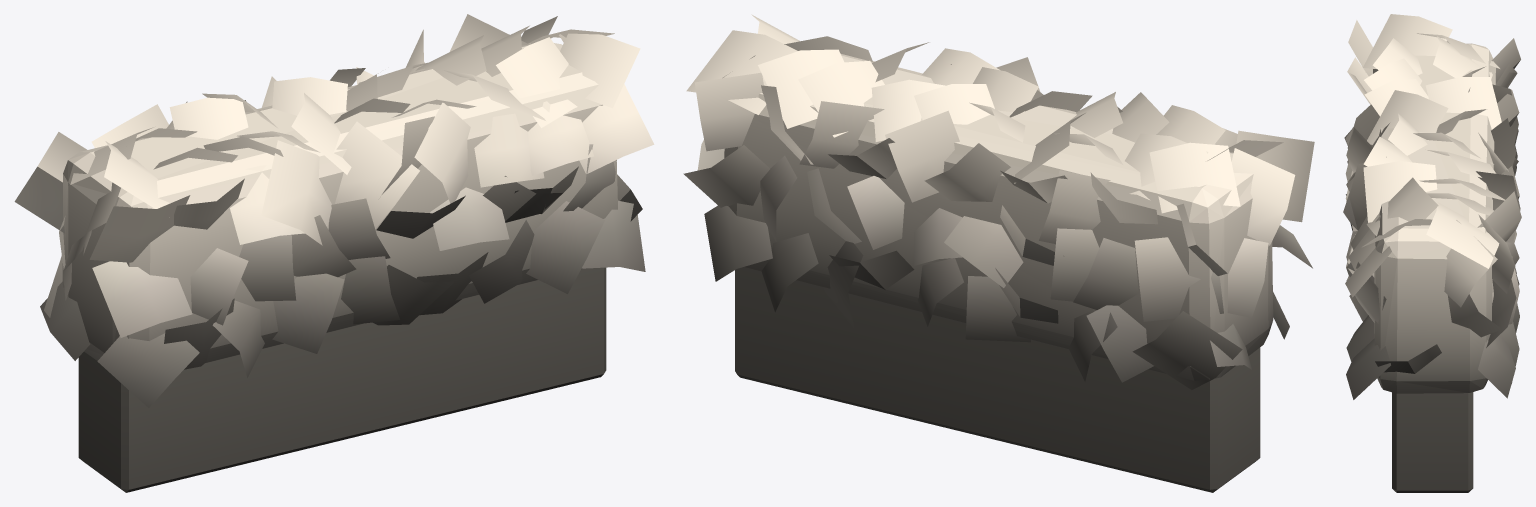
File: SM_VK_Deco_Hedge.fbx
3 views of the same model, side by side, from view 1: azimuth 30°, elevation 25°; view 2: azimuth 150°, elevation 25°; view 3: azimuth 270°, elevation 25° (orthographic). The views are drawn at different scales.
Visible parts, largest first — view 1: SM_VK_Deco_Hedge.001; view 2: SM_VK_Deco_Hedge.001; view 3: SM_VK_Deco_Hedge.001.
Part boxes in pixels (<box>): SM_VK_Deco_Hedge.001: <box>14,14,654,492</box>; SM_VK_Deco_Hedge.001: <box>683,14,1314,492</box>; SM_VK_Deco_Hedge.001: <box>1343,14,1521,492</box>.
Bounding box in the file's own units: 3.34 × 1.92 × 1.1.
